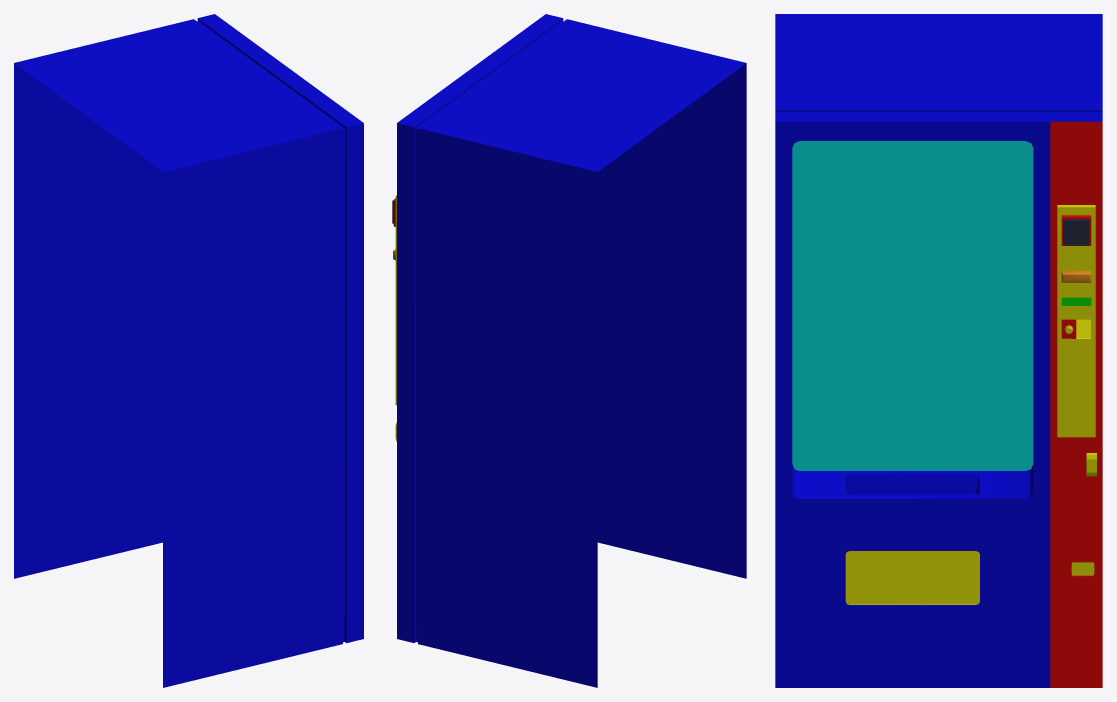
Rendered from Vending Machine v3.fbx.
The picture shows the model from 3 angles, left to right: view 1: azimuth 30°, elevation 25°; view 2: azimuth 150°, elevation 25°; view 3: azimuth 270°, elevation 25°; orthographic projection. The views are drawn at different scales.
Visible parts, largest first — view 1: Cube; view 2: Cube; view 3: Cube.
Part boxes in pixels (box(x1,y1,x2,y2)): Cube: box(14, 14, 363, 687); Cube: box(392, 14, 746, 687); Cube: box(775, 14, 1102, 687).
Bounding box in the file's own units: 85.78 × 200 × 105.
